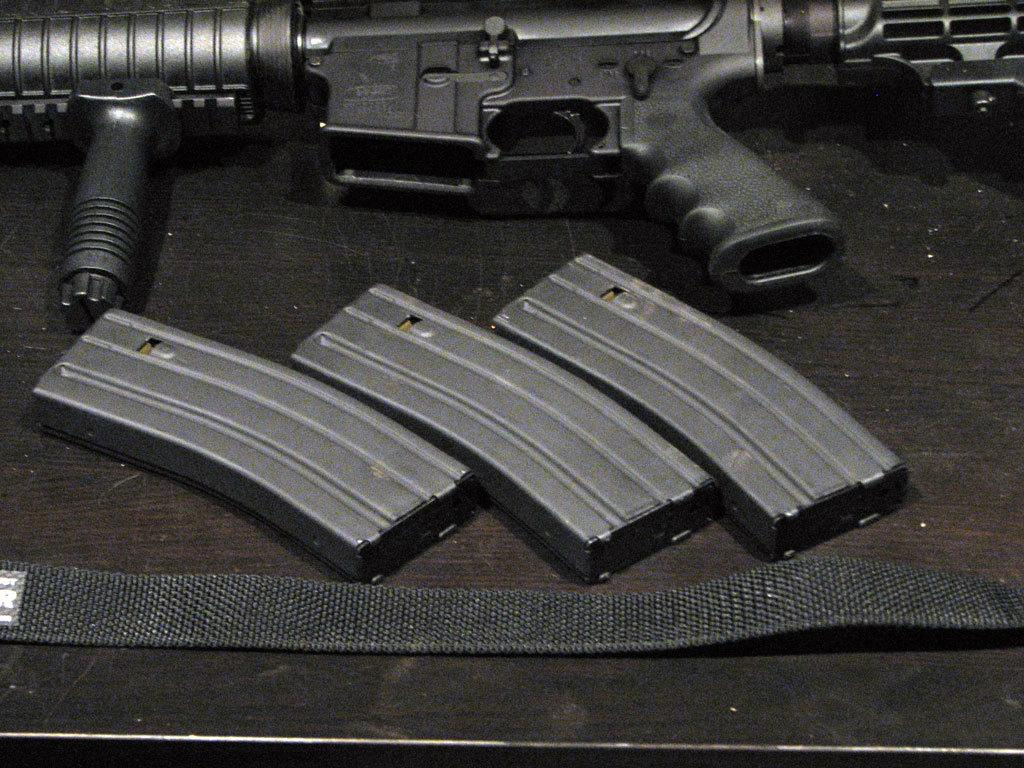Shotgun: (0, 0, 1023, 337)
